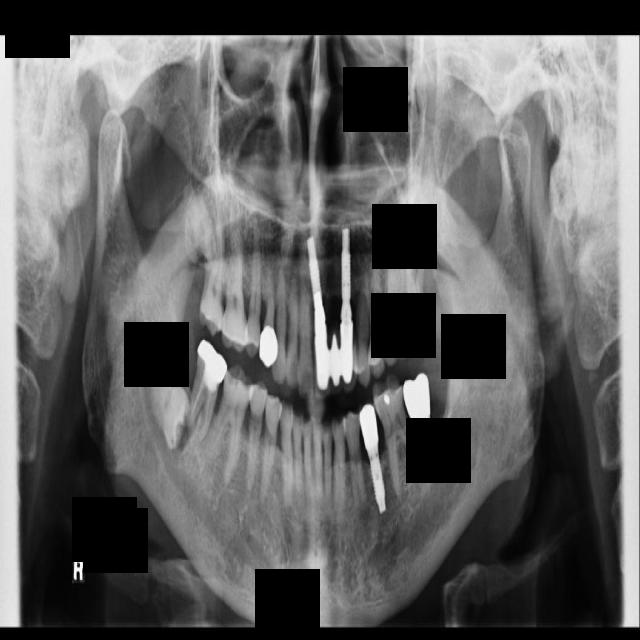52: (314, 326, 358, 399), (365, 372, 413, 425), (195, 340, 228, 393), (402, 373, 433, 429), (356, 402, 383, 453), (259, 325, 278, 367)
73: (180, 374, 222, 443), (587, 571, 601, 579)
BioHorizons Implant: (403, 237, 433, 358)
Caries: (199, 218, 224, 335)
Implant: (182, 339, 231, 444)
Keystone Dental Implant: (136, 354, 205, 450)
